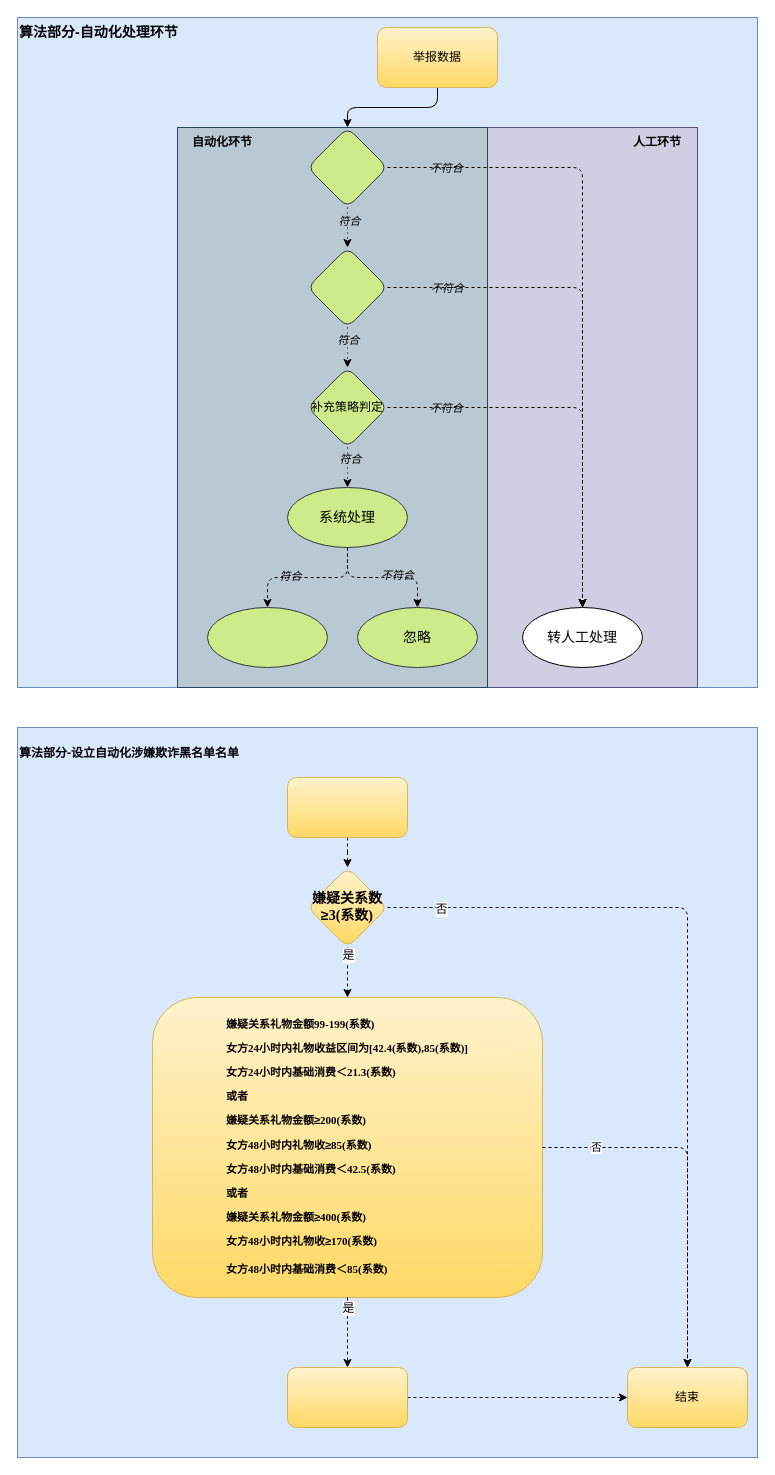
The diagram is 775 pixels wide and 1475 high, and some of its shapes have lost their labels. Each missing label, with the box of its shape:
处罚: (206, 606, 328, 668)
海量数据统计引擎: (286, 776, 408, 838)
用户数据判定: (306, 126, 388, 208)
设置黑名单名单: (286, 1366, 408, 1428)
追诉期 判定: (306, 246, 388, 328)
